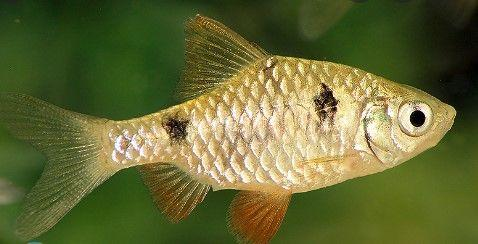Black Spotted Barb: (1, 13, 457, 244)
